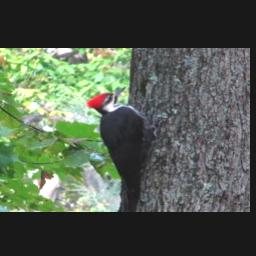Woodpecker: (83, 86, 167, 211)
